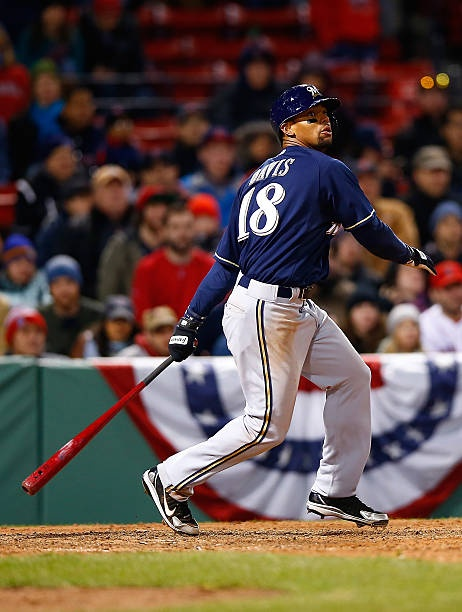bita: (17, 348, 188, 492)
